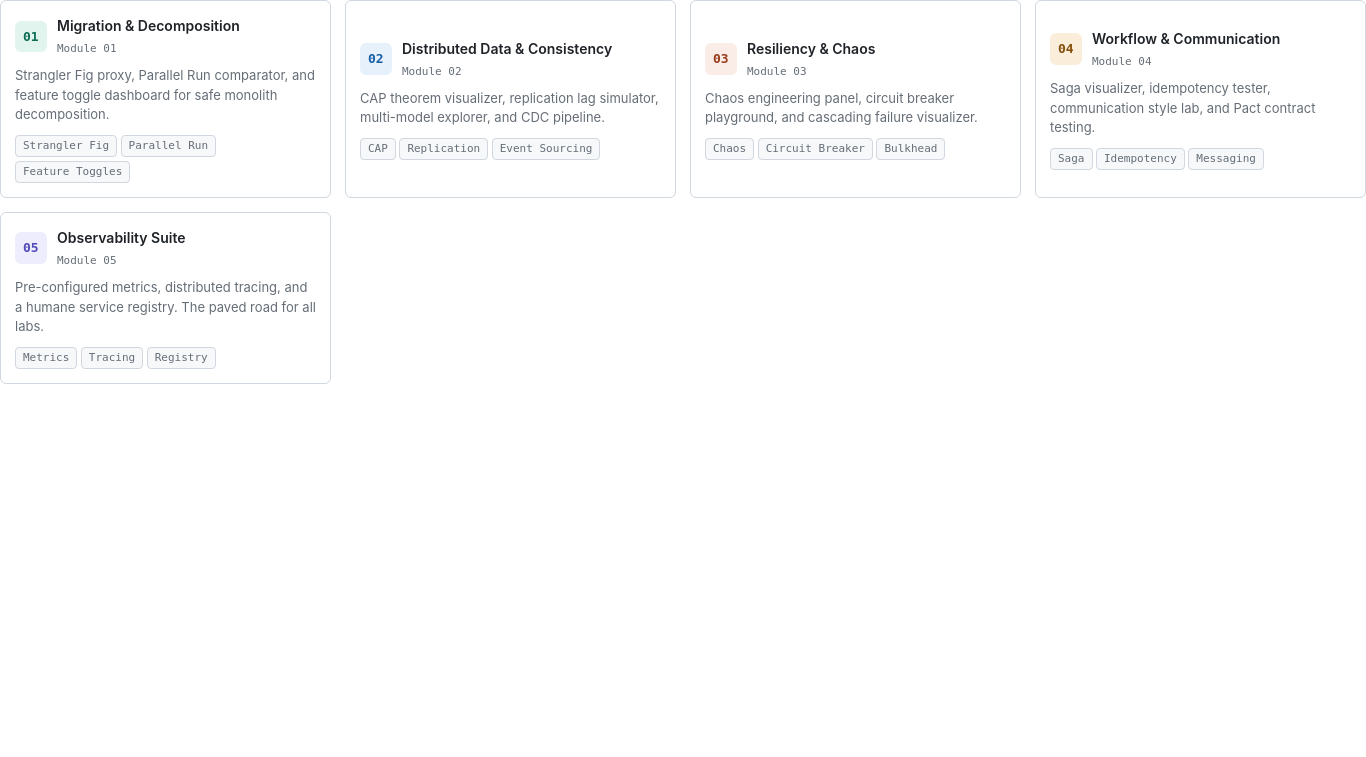
labs prototype flow › labels utilities by safety and requires confirmation for state-changing actions
Click the button "Migration & Decomposition": click(166, 99) [0,0,331,198]
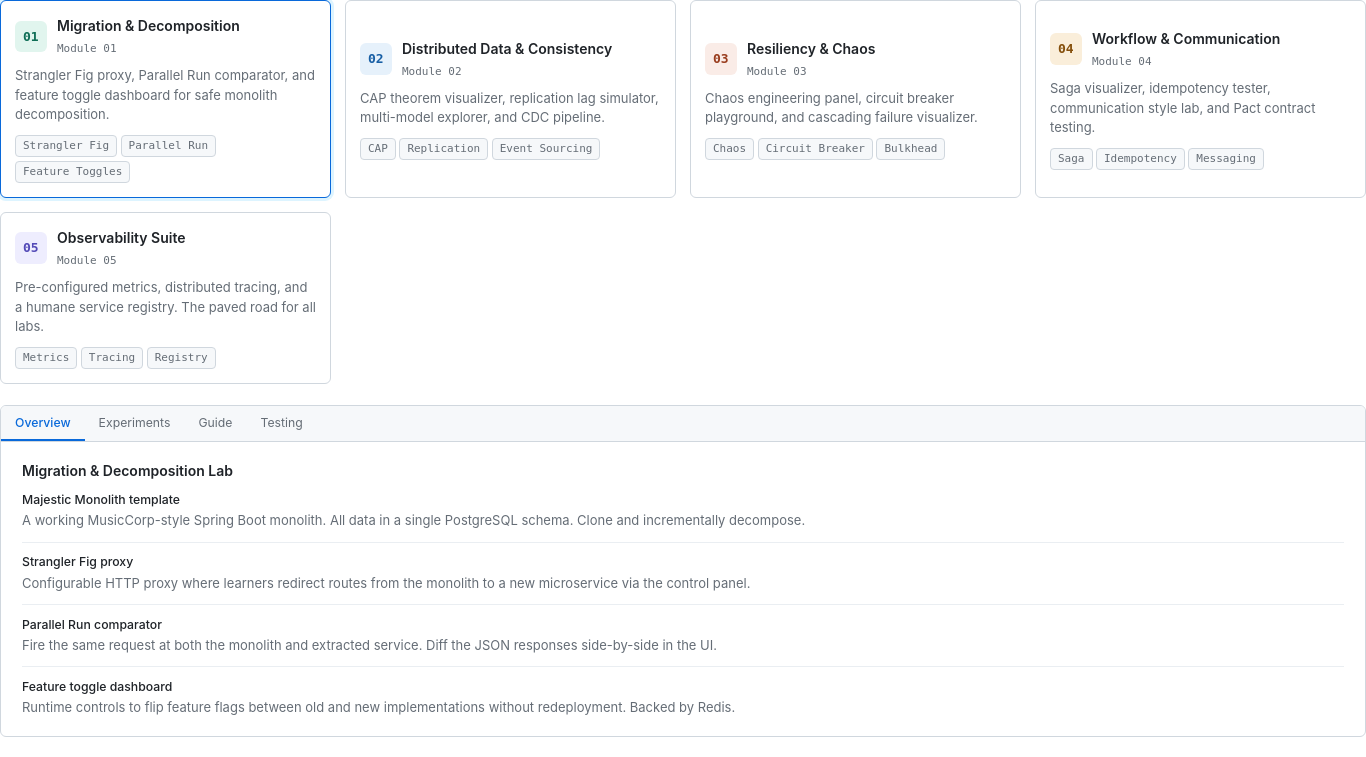
Click the tab "Testing": click(282, 424) [246,406,317,441]
(page scrolled)
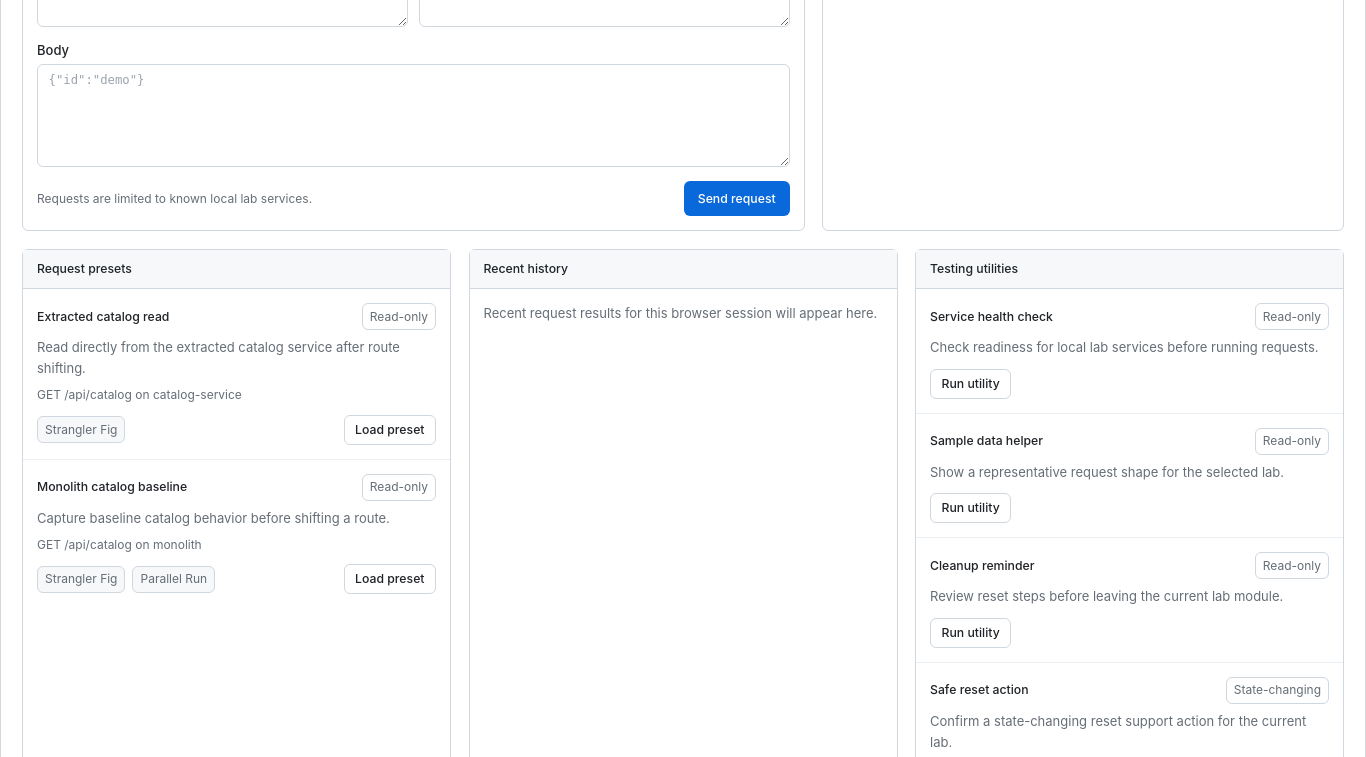
Now the text "Read-only" in the row of "Extracted catalog read" is shown, box [370,308,428,324]
Now the text "State-changing" is shown, box [1226,676,1329,704]
Click the button "Run utility" below "Service health check": click(971, 384) [930,368,1011,398]
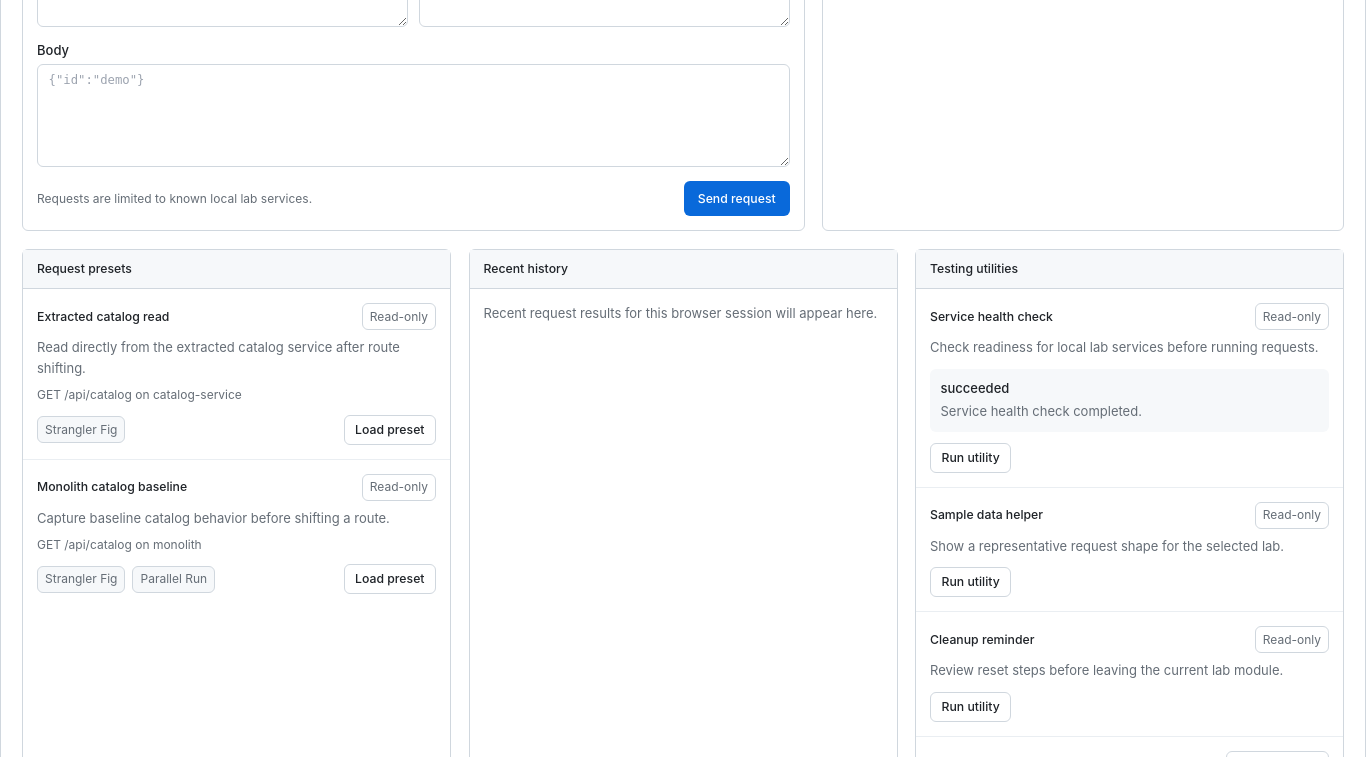
Now the text "Service health check completed." is shown, box [940,403,1142,419]
